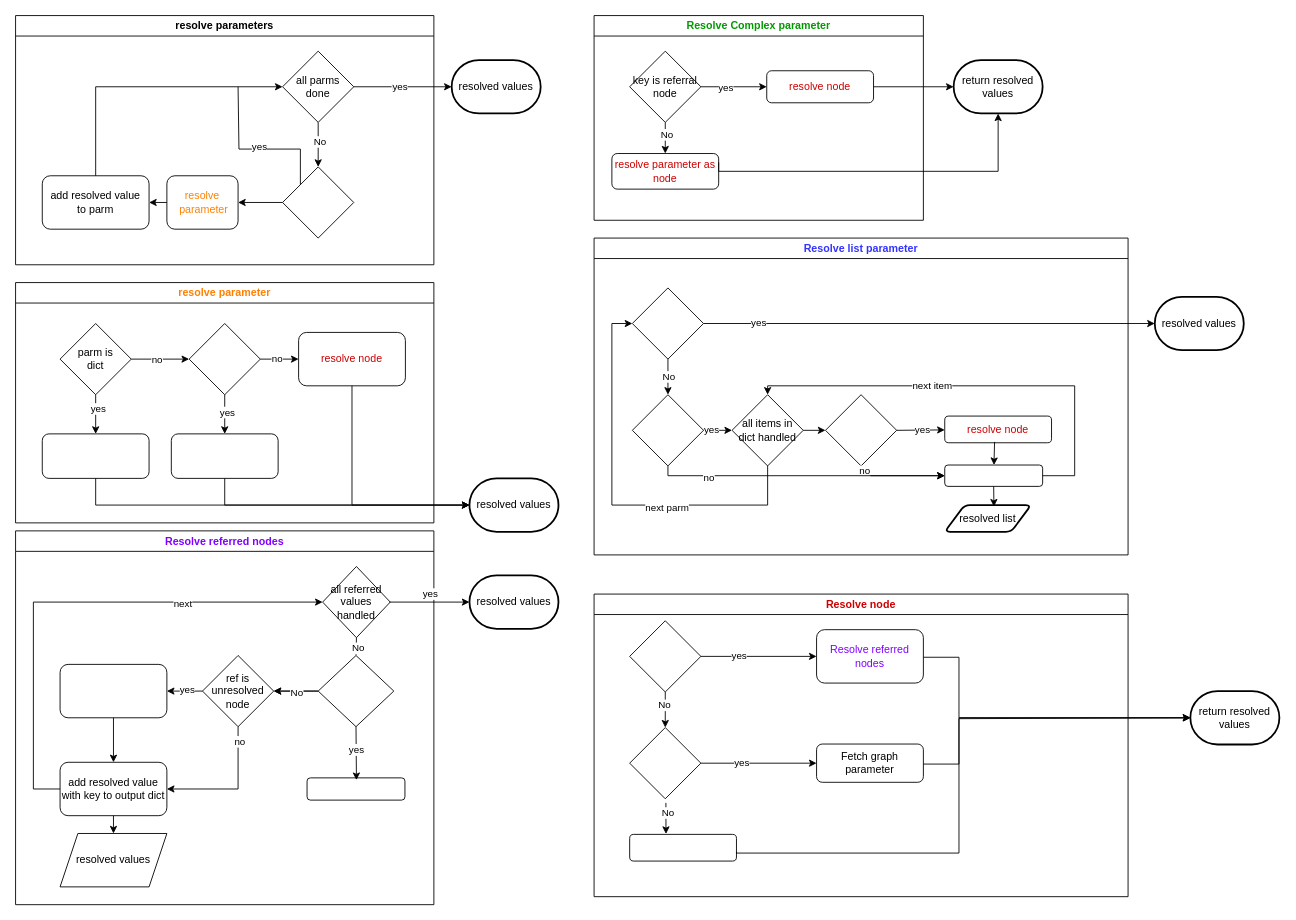
Image size: 1296x920. Some labels were removed from this diagram. Here are the shapes that lost their labels. From the top down, the centre of each, then its label:
point 318,202: parm no yet resolved
point 667,323: all parms handled
point 224,359: parm is list
point 667,430: parm is dict but not RasterData
point 861,430: if item is ref node
point 95,455: resolve complex parm
point 224,455: resolve list parm
point 993,475: add to resolved list
point 665,656: parm is a referred node
point 113,690: wrap in Execution Node and run.
point 355,691: illegal node ref
point 665,763: parm is a graph parm
point 355,788: error
point 682,847: parm is direct value
